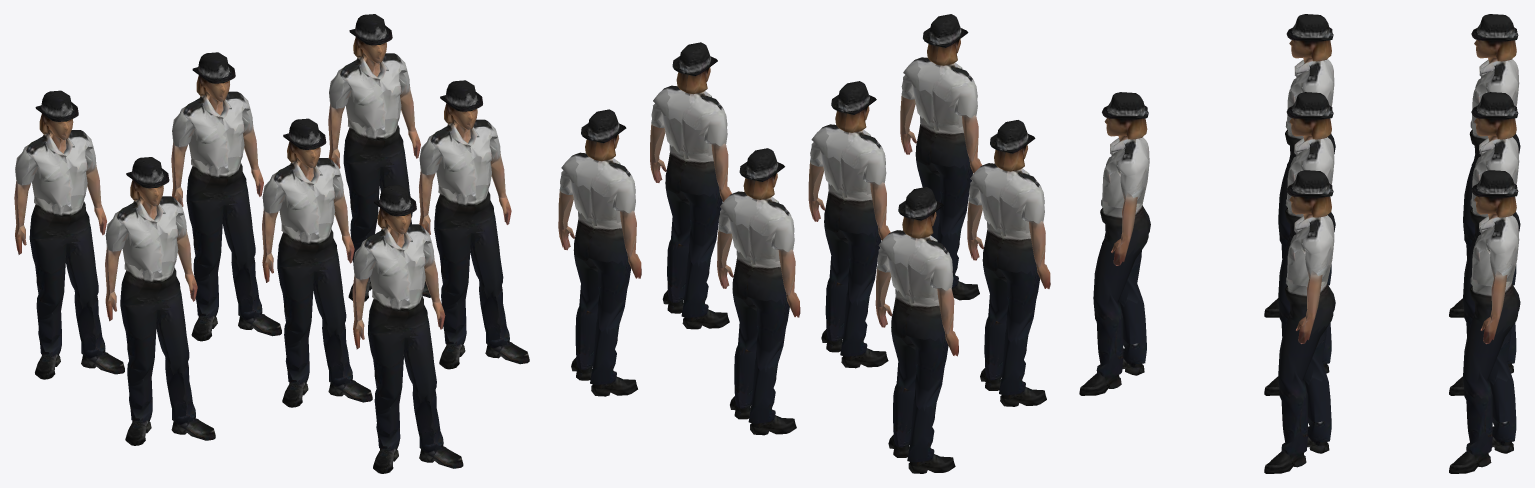
File: parade_uk_idle_lod2.glb
The picture shows the model from 3 angles, left to right: view 1: azimuth 30°, elevation 25°; view 2: azimuth 150°, elevation 25°; view 3: azimuth 270°, elevation 25°; orthographic projection.
Visible parts, largest first — view 1: tripo_node_d3e88224-d085-4138-aae1-9098a10b0020; view 2: tripo_node_d3e88224-d085-4138-aae1-9098a10b0020; view 3: tripo_node_d3e88224-d085-4138-aae1-9098a10b0020.
Part boxes in pixels (left/top/right/bottom): tripo_node_d3e88224-d085-4138-aae1-9098a10b0020: left=14, top=14, right=529, bottom=473; tripo_node_d3e88224-d085-4138-aae1-9098a10b0020: left=558, top=14, right=1050, bottom=473; tripo_node_d3e88224-d085-4138-aae1-9098a10b0020: left=1079, top=14, right=1520, bottom=473.
Size of the model in its own units: 1.53 by 1 by 1.43.
1 material, 1 textured.
